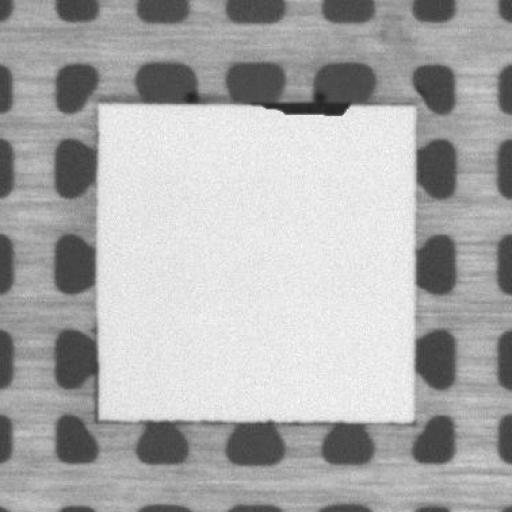DIE_BROKEN: (254, 93, 354, 118)
